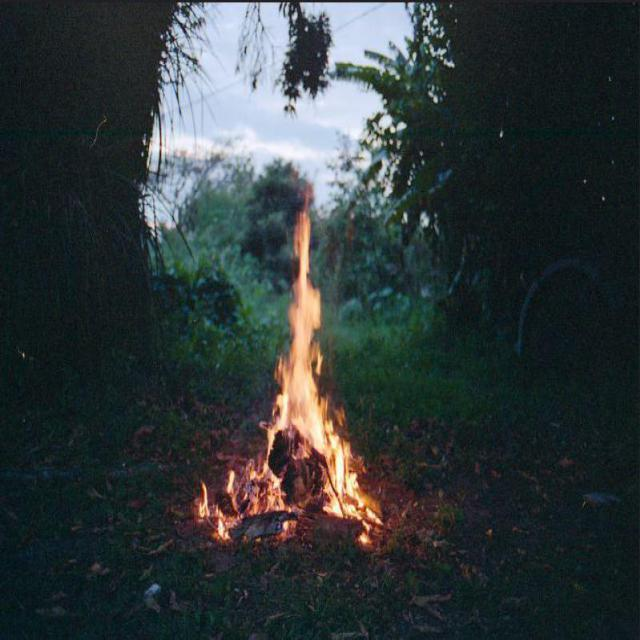Fire: (194, 184, 376, 556)
